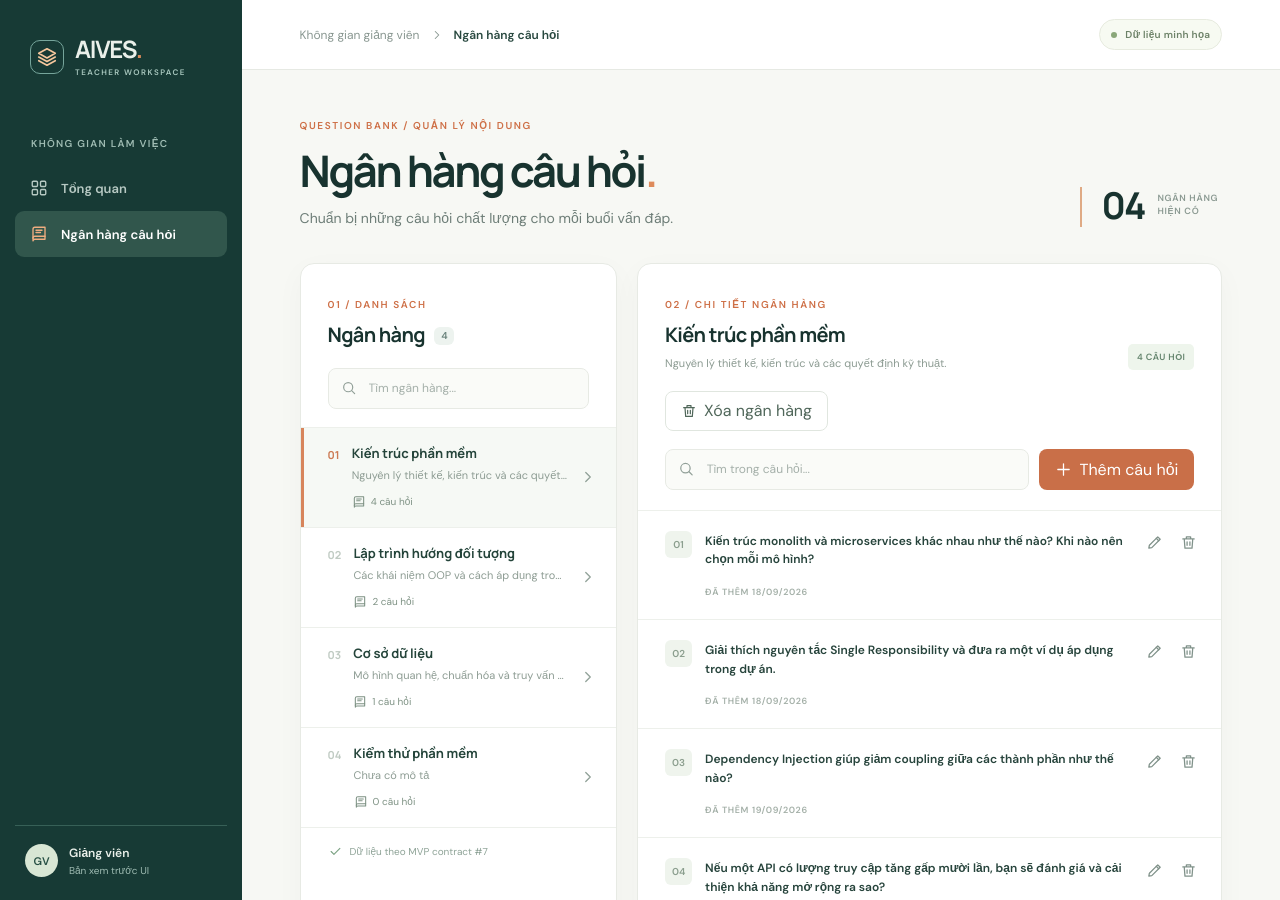
it: QuestionBankWorkspace › keeps bank errors visible and explains how to resolve a nonempty-bank conflict
Click the button "Xóa ngân hàng" at (747, 411), box [665,391,828,431]
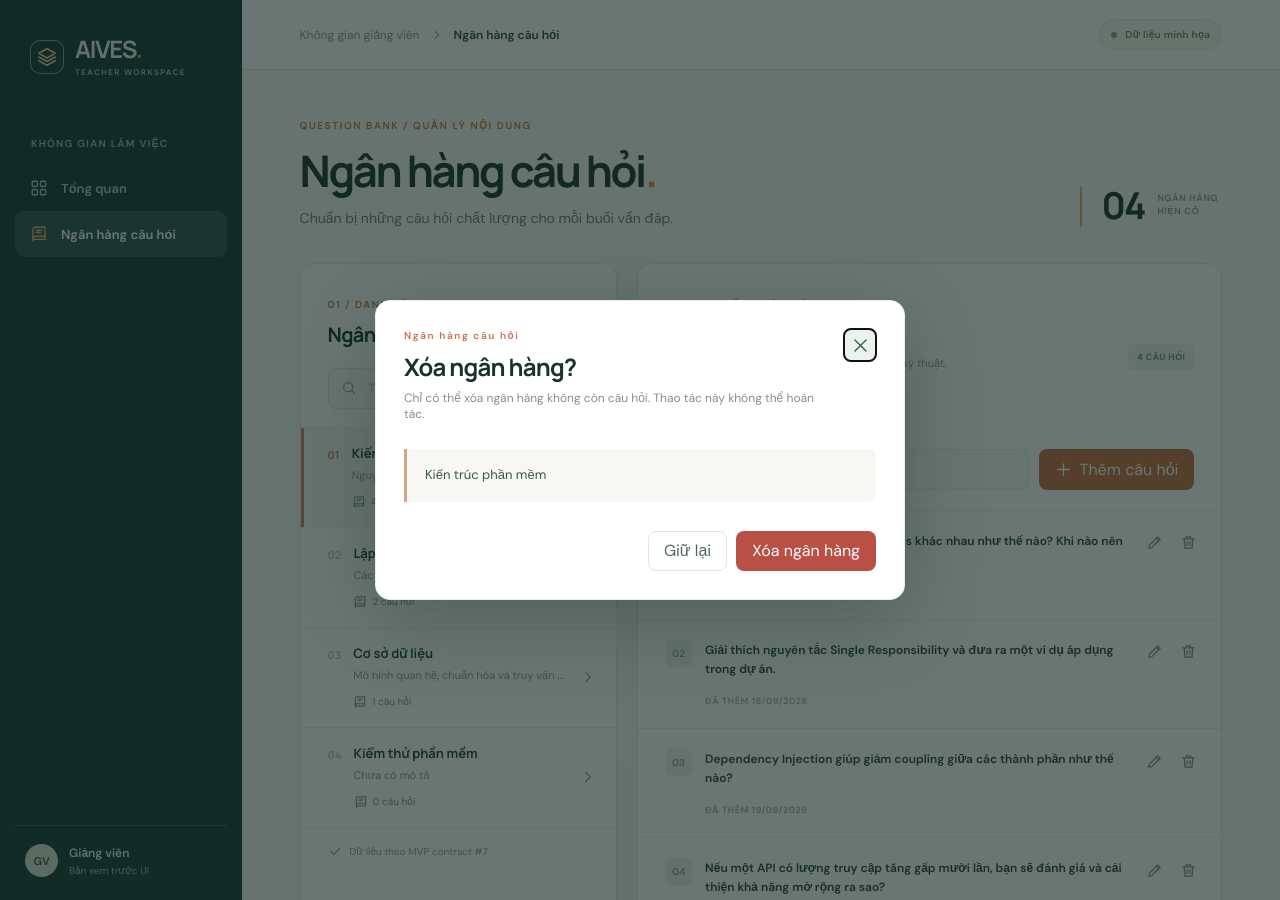
Expected: the text "Kiến trúc phần mềm" is shown, [404,449,876,502]
Click the button "Xóa ngân hàng" at (806, 551), box [736,531,876,571]
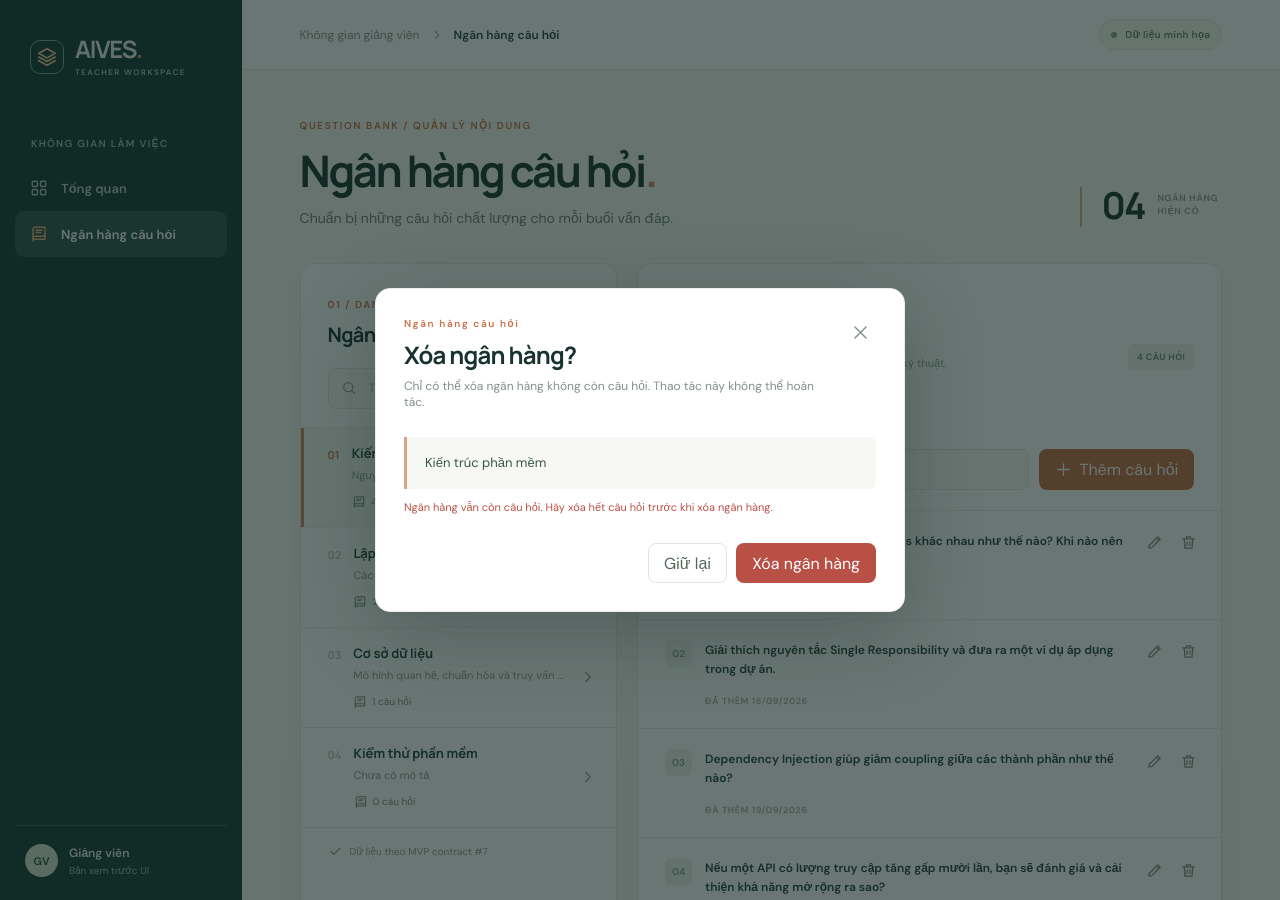
Expected: the message shows "Hãy xóa hết câu hỏi trước khi xóa ngân hàng.", [404,500,773,514]
Click the button "Xóa ngân hàng" at (806, 563), box [736,543,876,583]
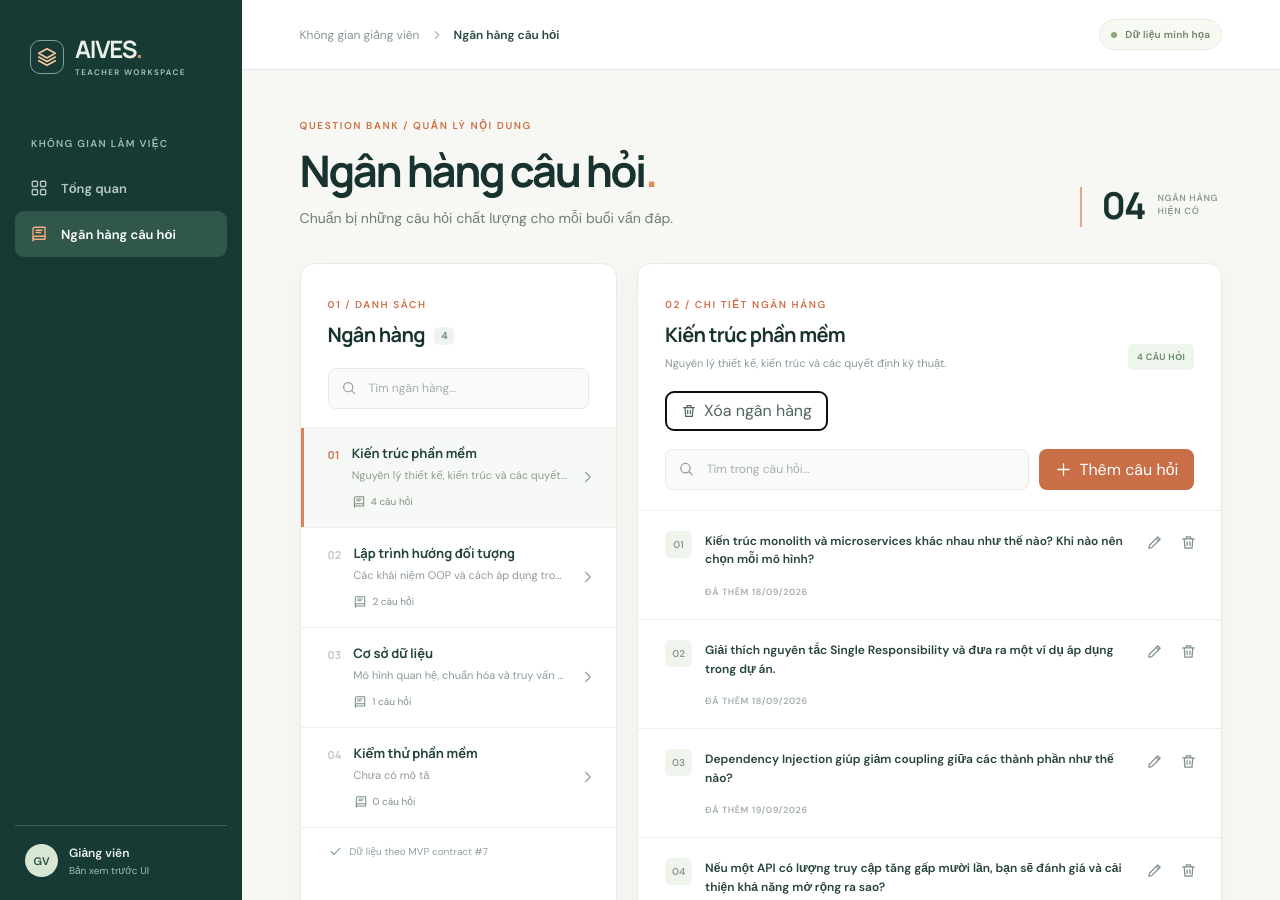
Expected: the dialog is gone
